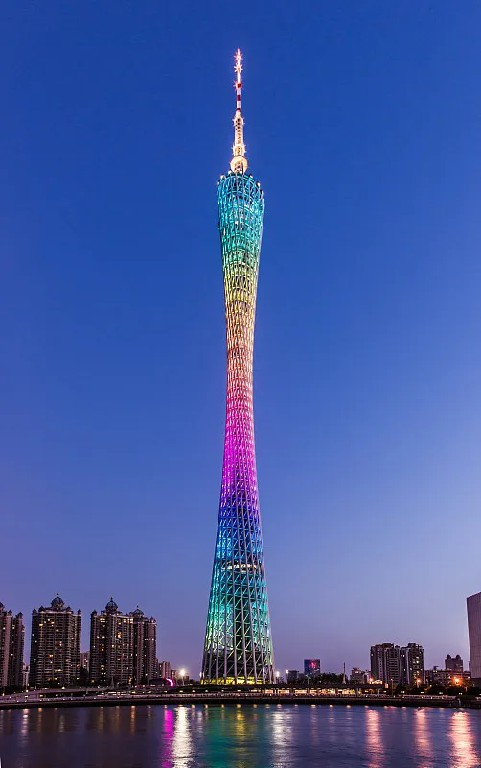Canton: (198, 42, 275, 684)
